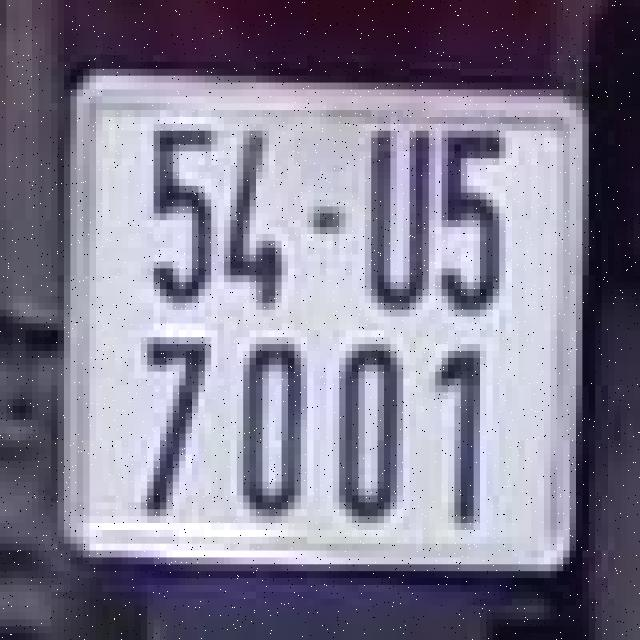0: (317, 330, 406, 530), (233, 323, 310, 530)
1: (429, 334, 486, 540)
4: (224, 110, 294, 310)
5: (134, 114, 218, 306), (442, 120, 512, 320)
7: (132, 317, 215, 523)
U: (362, 103, 438, 317)
